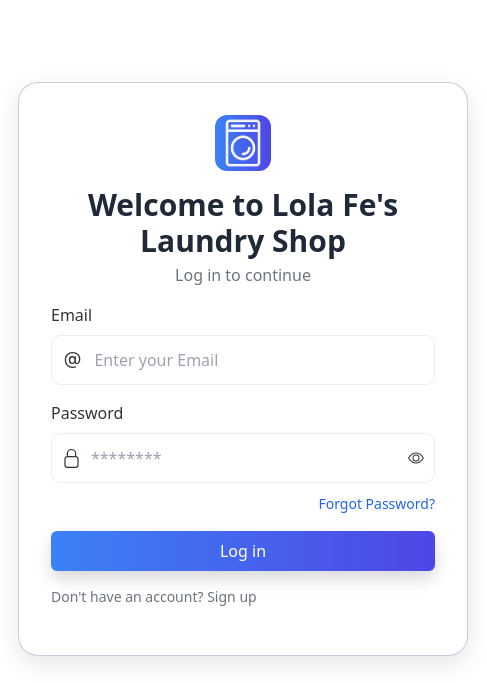
Test case: Login Component (Jest) › shows error message on invalid login
Type "wrong@email.com" into the field labelled "Email" at (252, 360), box [94,336,411,384]
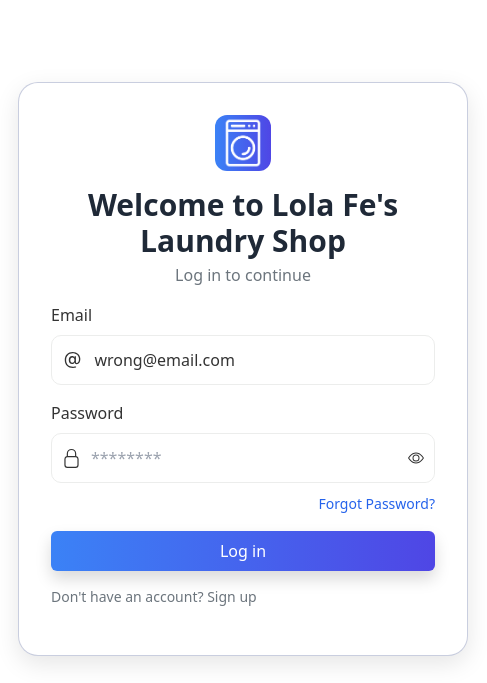
Type "wrongpass" into the password field labelled "Password" at (262, 458), box [91,434,434,482]
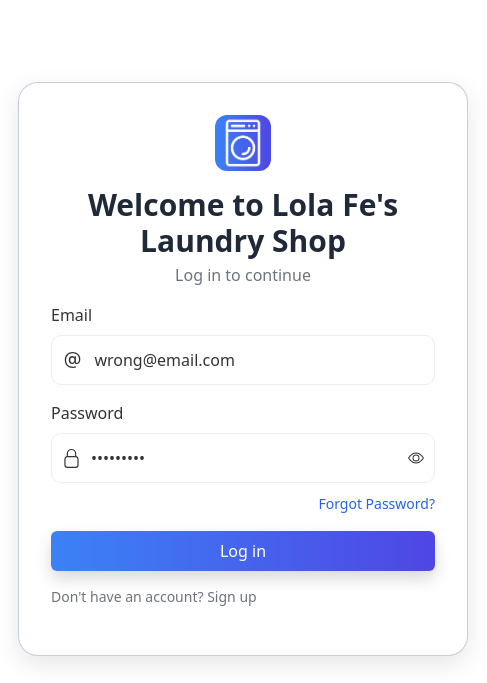
Click the button "Log in" at (243, 551), box [51,531,435,571]
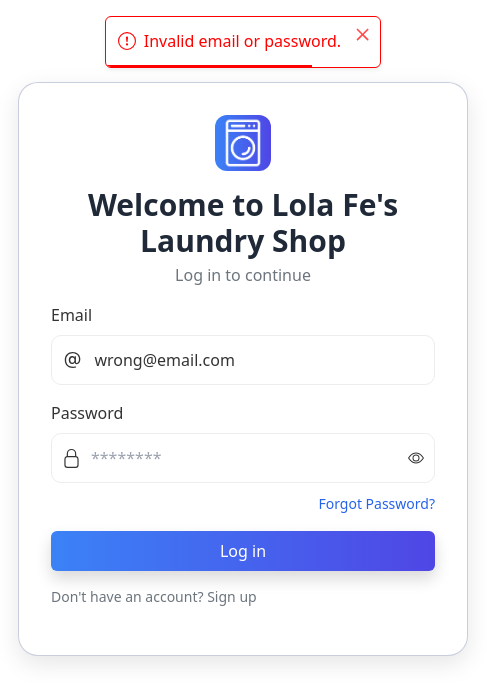
Check: the text "Invalid email or password." is shown, box [144,29,349,53]
